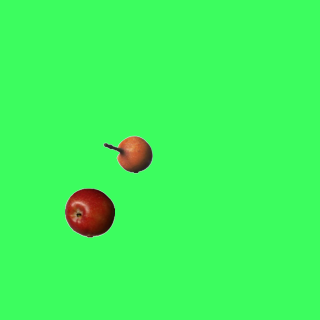Apple Braeburn: (64, 187, 114, 237)
Granadilla: (102, 129, 152, 179)
